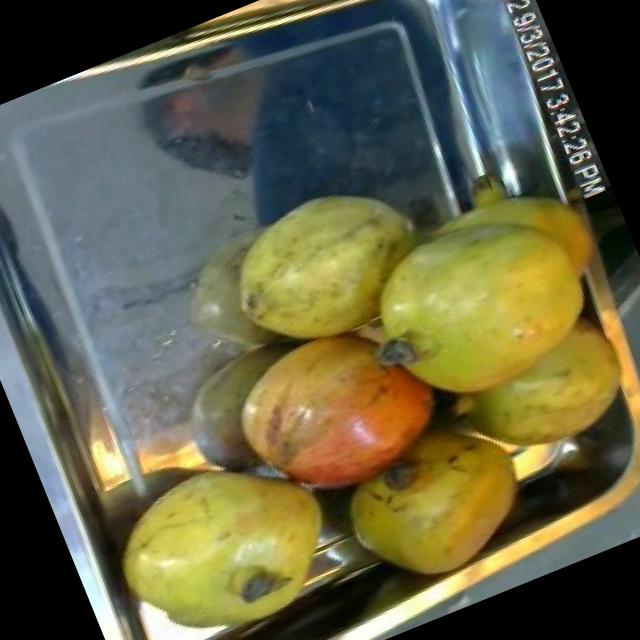fruit: (325, 116, 640, 445), (196, 285, 476, 541), (82, 419, 367, 640), (194, 151, 458, 385), (306, 381, 568, 616)
